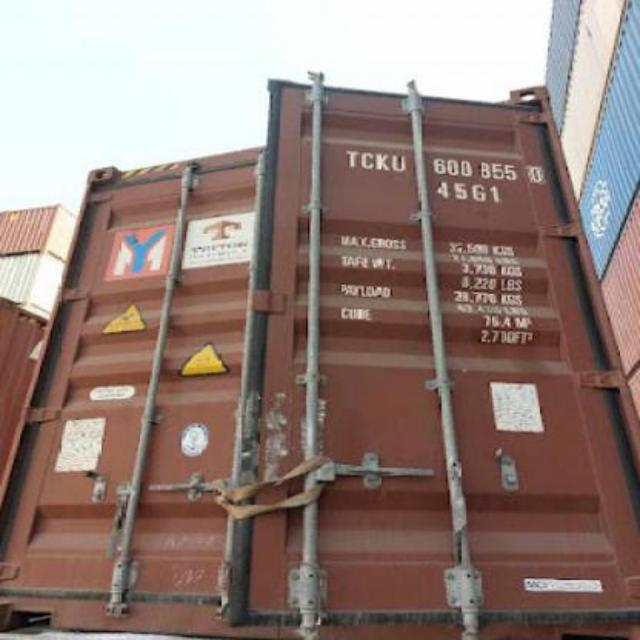0: (461, 157, 474, 177), (528, 166, 546, 180), (448, 156, 460, 174)
5: (504, 163, 520, 179), (492, 161, 504, 179)
6: (430, 156, 448, 174)
8: (478, 160, 492, 176)
C: (360, 148, 376, 172)
K: (376, 150, 389, 170)
T: (344, 148, 360, 170)
U: (390, 150, 408, 170)
